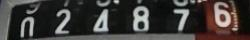digits: (17, 16, 39, 40), (213, 1, 231, 26), (54, 7, 70, 34), (132, 6, 149, 30), (92, 8, 109, 32), (172, 8, 190, 30)
